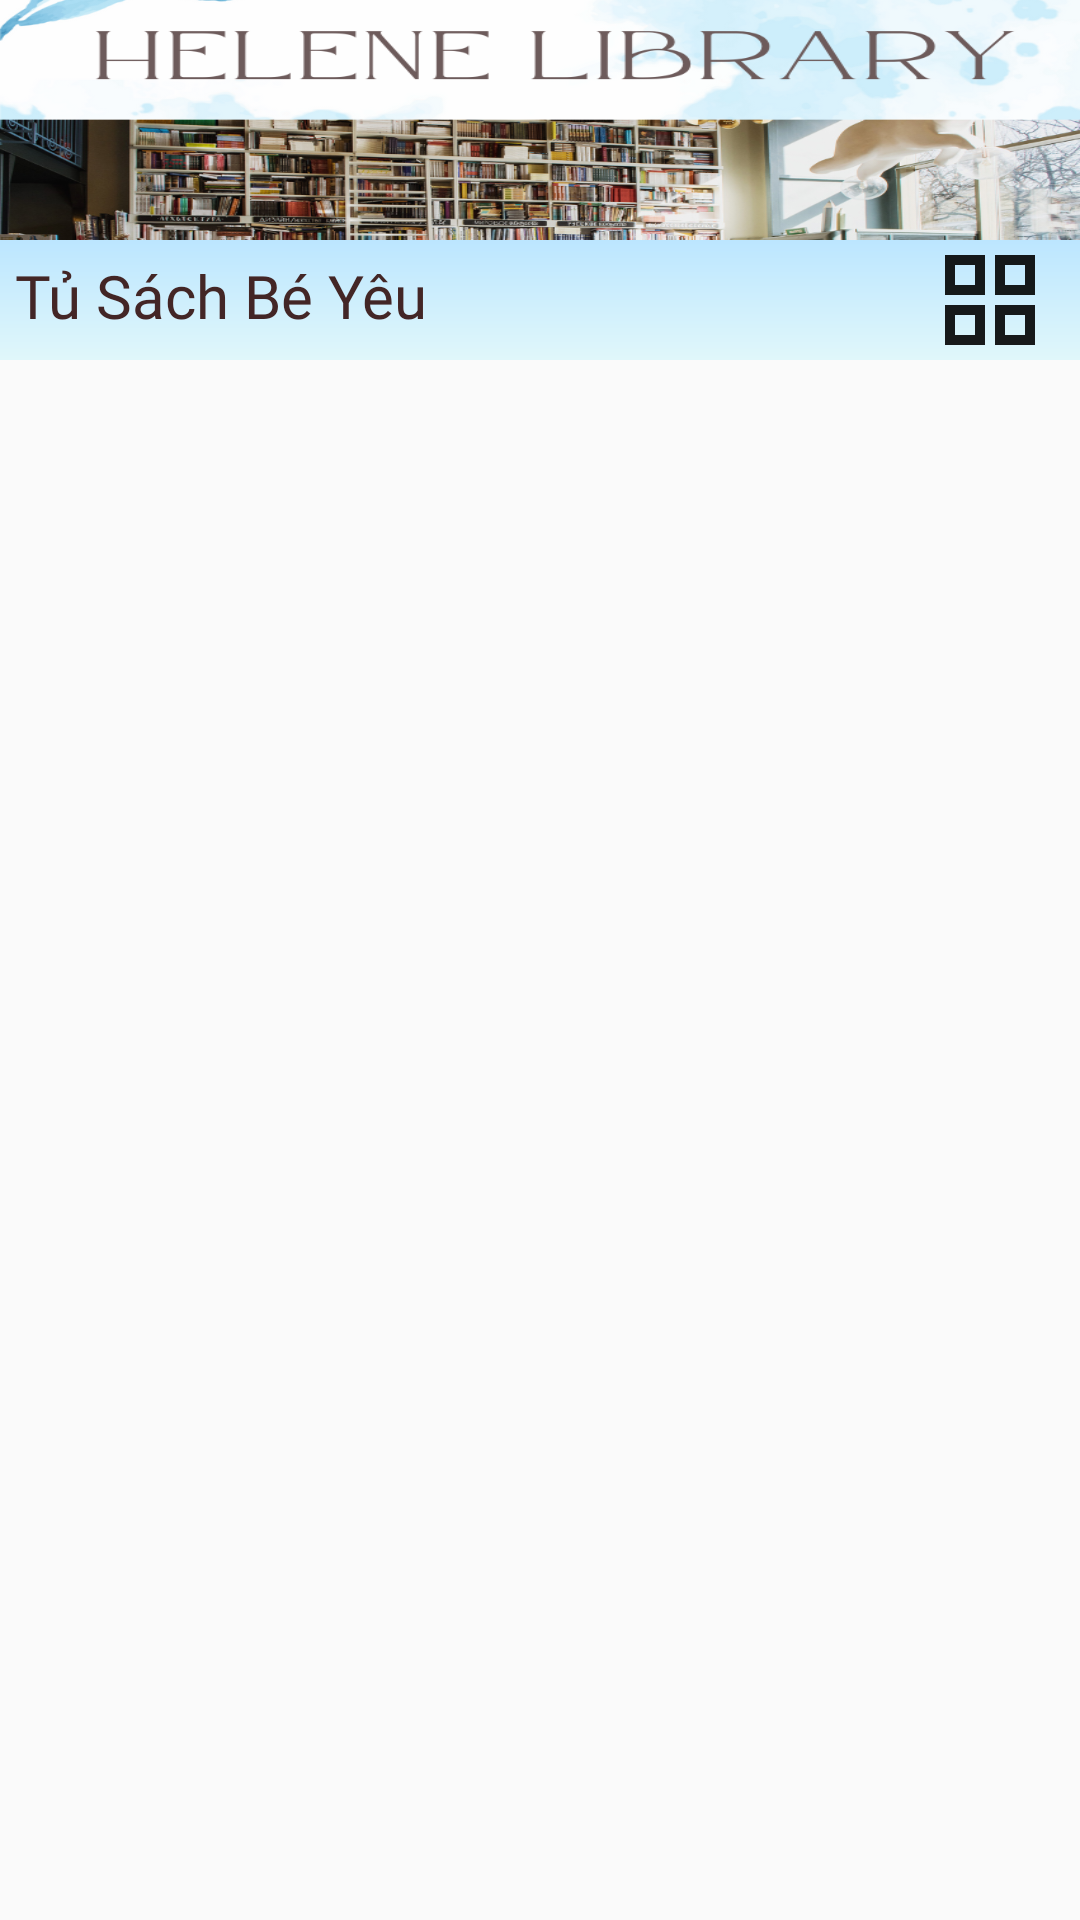

Icons on this 1080w x 1920h Android screen, each with the point to tap as point (x, y):
grid view: point (990, 300)
